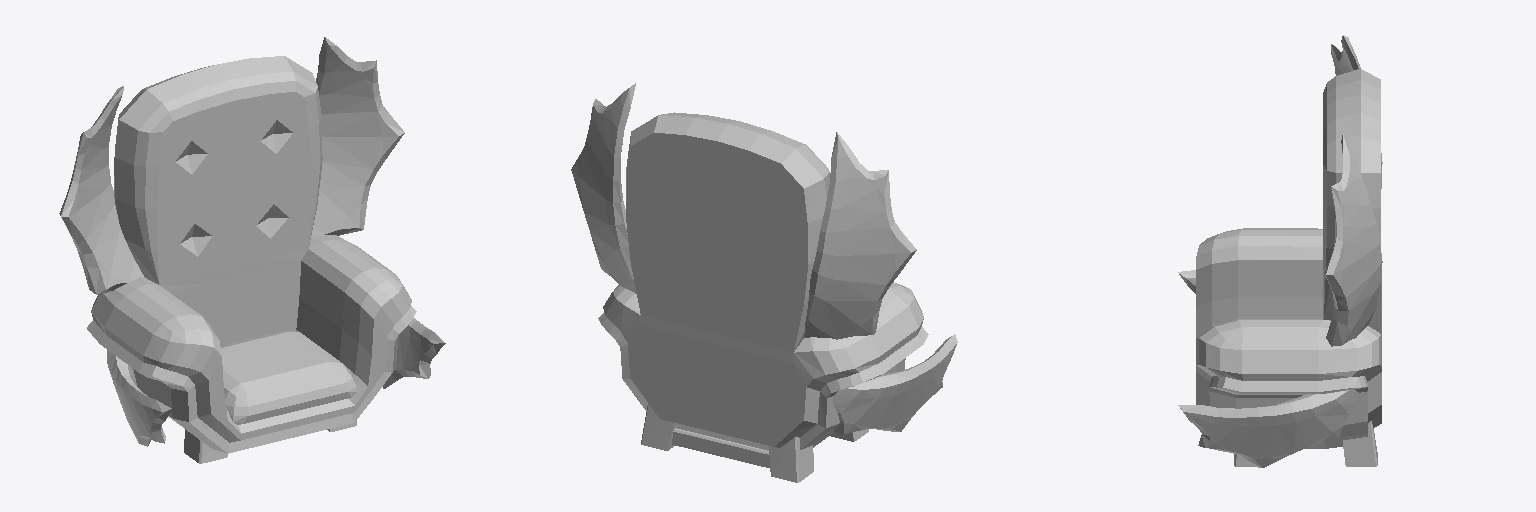
The model's file is Vampire_Throne.obj.
3 views of the same model, side by side, from view 1: azimuth 30°, elevation 25°; view 2: azimuth 150°, elevation 25°; view 3: azimuth 270°, elevation 25° (orthographic).
Visible parts, largest first — view 1: Vampire_Throne; view 2: Vampire_Throne; view 3: Vampire_Throne.
Boxes of the visible parts, box(x1,y1,x2,y2) form: Vampire_Throne: box(59, 37, 445, 463); Vampire_Throne: box(571, 83, 957, 482); Vampire_Throne: box(1178, 35, 1382, 467).
Bounding box in the file's own units: 2.33 × 2.23 × 1.2.